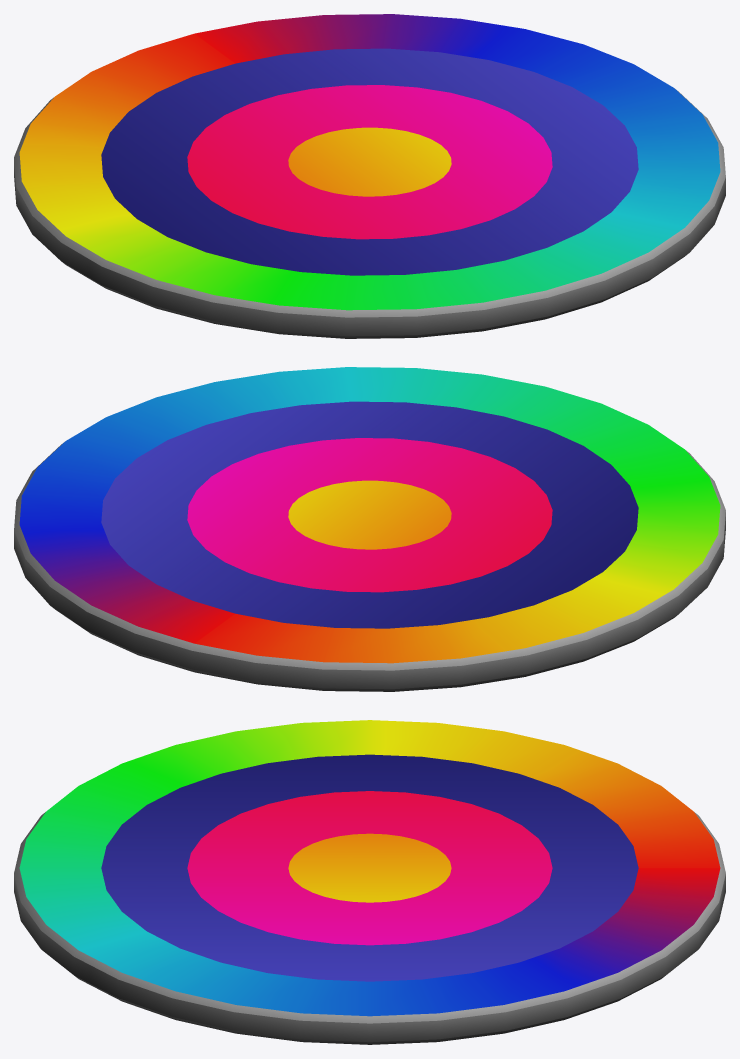
File: SM_Diana.fbx
3 views of the same model, one above another, from view 1: azimuth 30°, elevation 25°; view 2: azimuth 150°, elevation 25°; view 3: azimuth 270°, elevation 25° (orthographic).
Visible parts, largest first — view 1: Diana; view 2: Diana; view 3: Diana.
Part boxes in pixels (x1,y1,x2,y2): Diana: (14,14,725,338); Diana: (14,367,725,691); Diana: (14,720,725,1044).
Size of the model in its own units: 100 by 4.44 by 100.
